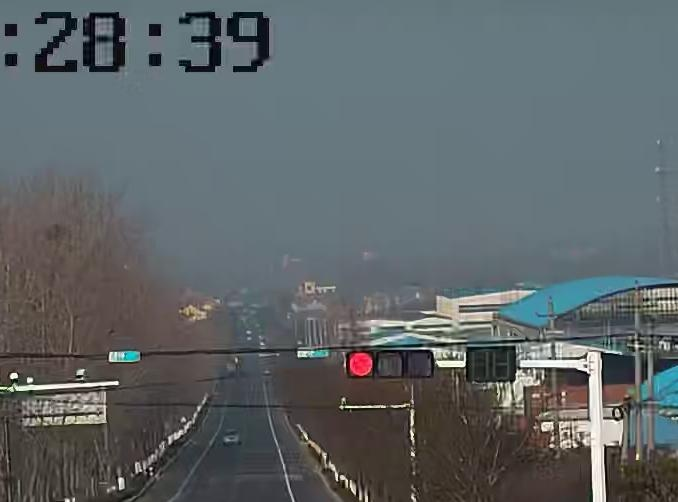red: (344, 351, 375, 379)
redtime: (468, 350, 512, 379)
